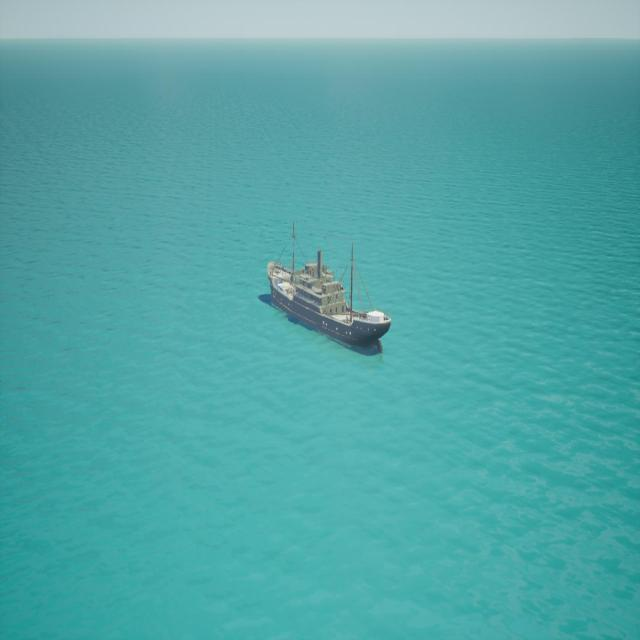fishing ship: (264, 231, 390, 356)
